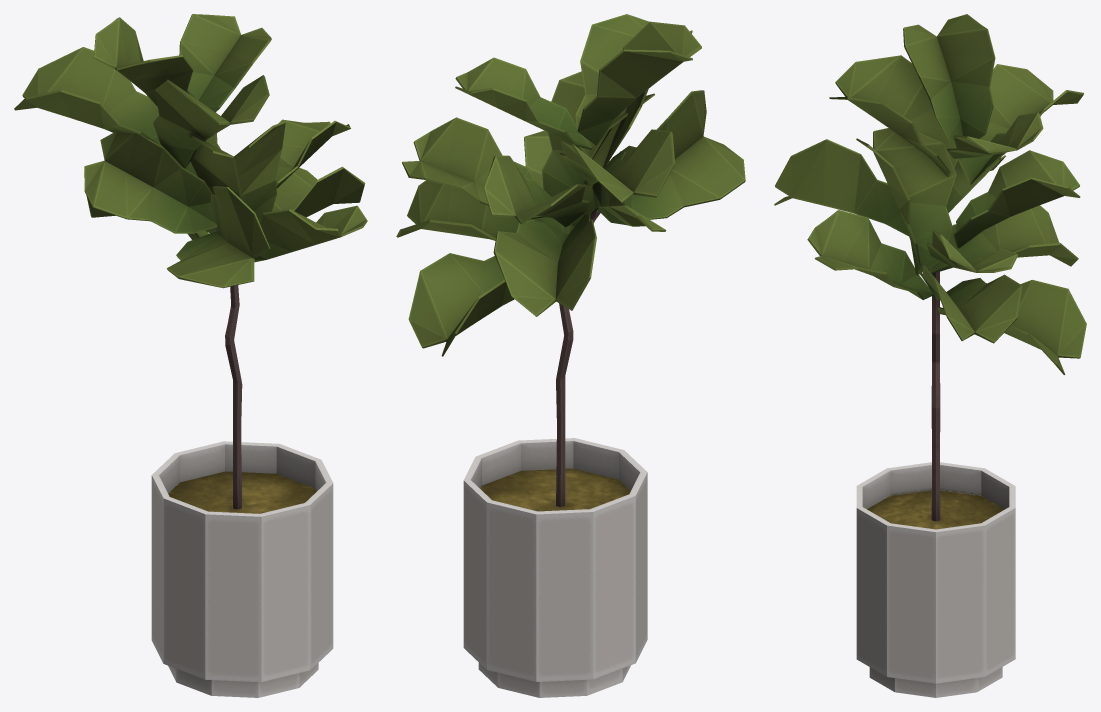
File: FiddleleafFigPottedPlant.obj
3 renders of one model, left to right at view 1: azimuth 30°, elevation 25°; view 2: azimuth 150°, elevation 25°; view 3: azimuth 270°, elevation 25°, orthographic. The views are drawn at different scales.
Parts seen in each view (by area): view 1: FiddleleafFigPottedPlant; view 2: FiddleleafFigPottedPlant; view 3: FiddleleafFigPottedPlant.
Part boxes in pixels (bbox=[...]): FiddleleafFigPottedPlant: bbox=[14, 14, 367, 697]; FiddleleafFigPottedPlant: bbox=[396, 14, 745, 697]; FiddleleafFigPottedPlant: bbox=[774, 14, 1086, 697].
Size of the model in its own units: 0.4393 by 0.9137 by 0.434.
Materials: 1 (1 with a texture image).
